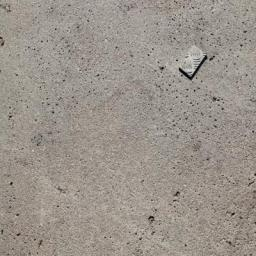FOD: (176, 44, 211, 86)
